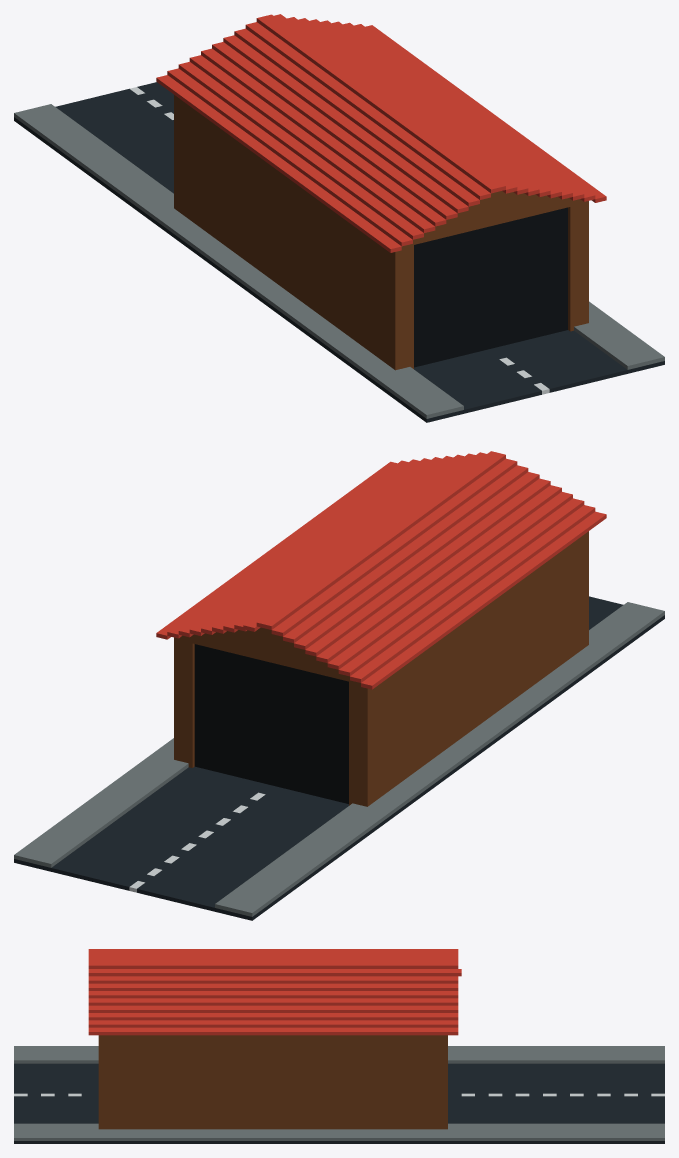
Rendered from TableFactory.obj.
The picture shows the model from 3 angles, top to bottom: view 1: azimuth 30°, elevation 25°; view 2: azimuth 150°, elevation 25°; view 3: azimuth 270°, elevation 25°; orthographic projection. The views are drawn at different scales.
Bounding box in the file's own units: 6.4 × 4.4 × 19.2.
1 material, 1 textured.
